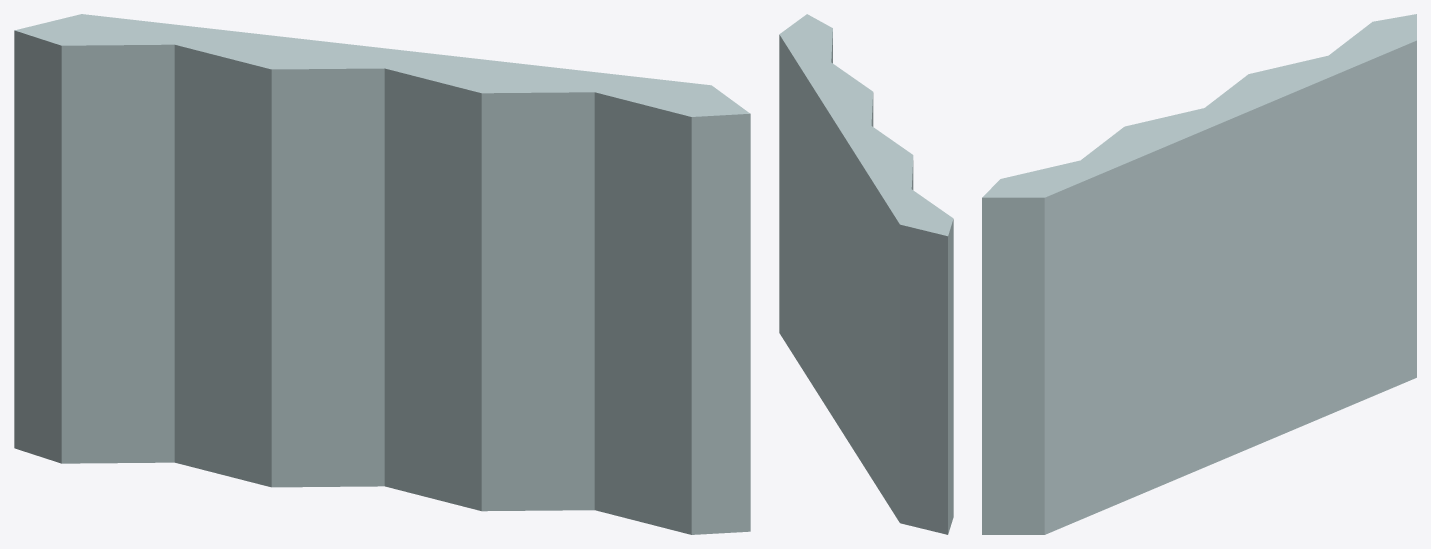
File: cliff_diagonal_stone.gltf
The picture shows the model from 3 angles, left to right: view 1: azimuth 30°, elevation 25°; view 2: azimuth 150°, elevation 25°; view 3: azimuth 270°, elevation 25°; orthographic projection. The views are drawn at different scales.
Visible parts, largest first — view 1: cliff_diagonal_stone; view 2: cliff_diagonal_stone; view 3: cliff_diagonal_stone.
Part boxes in pixels (x1,y1,x2,y2): cliff_diagonal_stone: [14, 14, 750, 534]; cliff_diagonal_stone: [779, 14, 953, 534]; cliff_diagonal_stone: [982, 14, 1416, 534].
Size of the model in its own units: 1.17 by 1 by 1.17.
